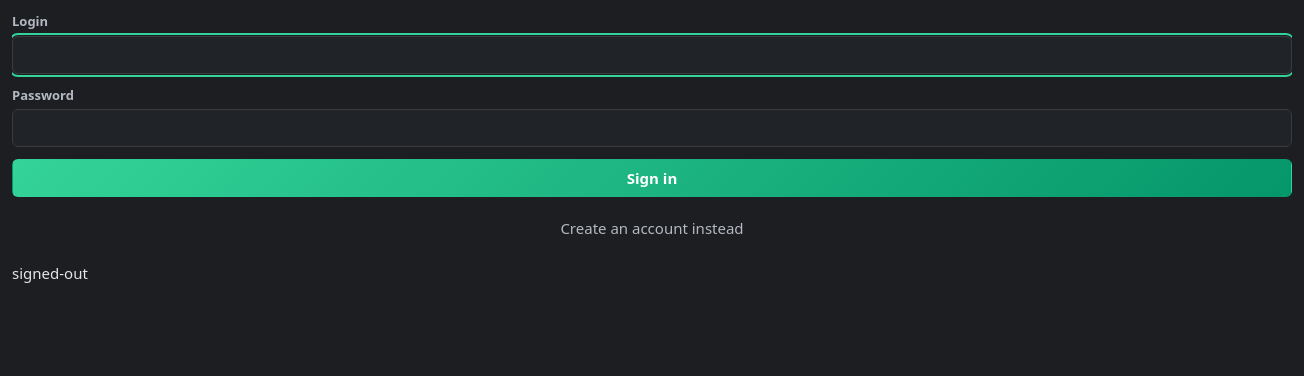
PasswordAuthForm › switches to register mode and reports an already-taken login without signing in
Click the button "Create an account instead". click: (652, 228)
box: [12, 209, 1292, 247]
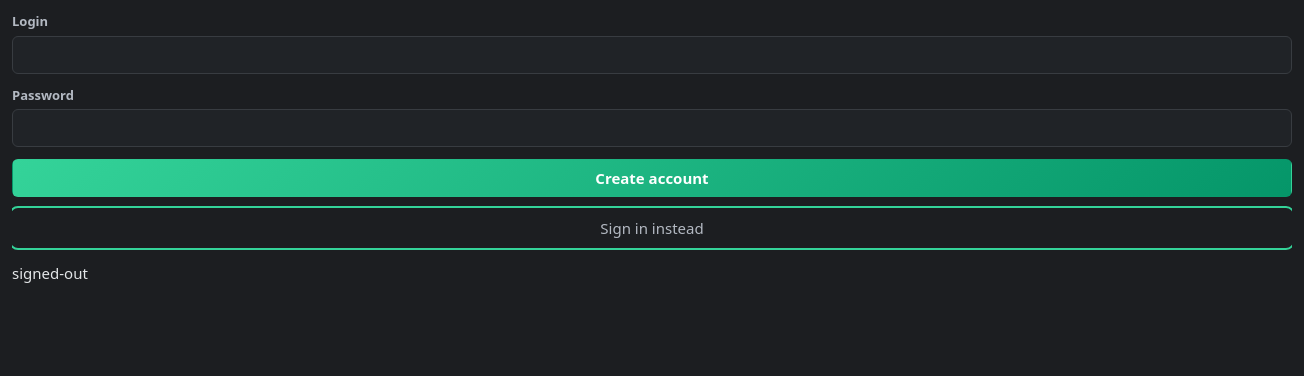
Type "alice" into the field labelled "Login". click: (652, 54)
box: [12, 36, 1292, 74]
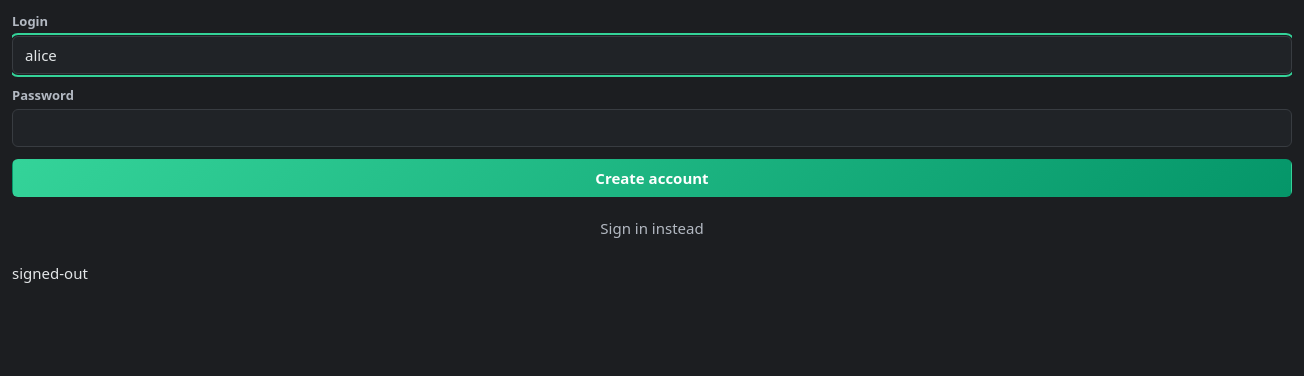
Type "some-password" into the password field labelled "Password". click: (652, 128)
box: [12, 109, 1292, 147]
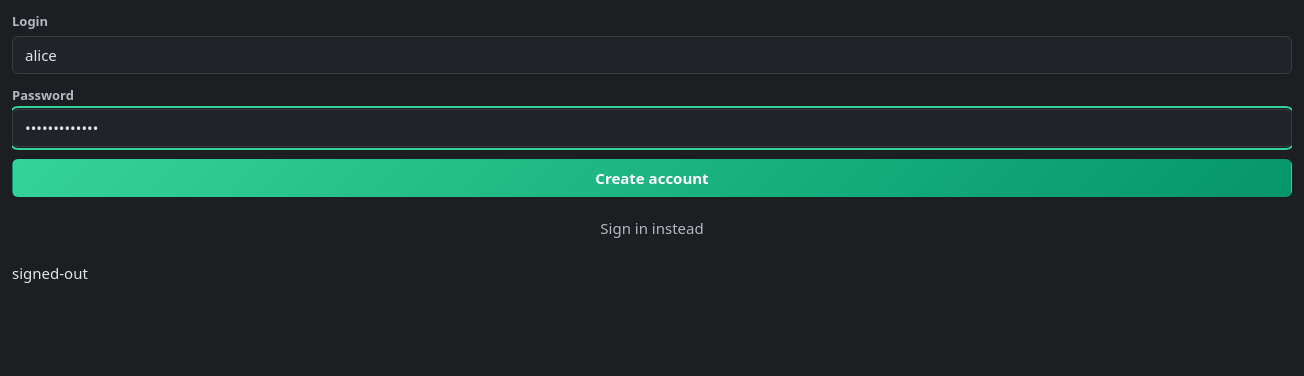
Click the button "Create account". click: (652, 178)
box: [12, 159, 1292, 197]
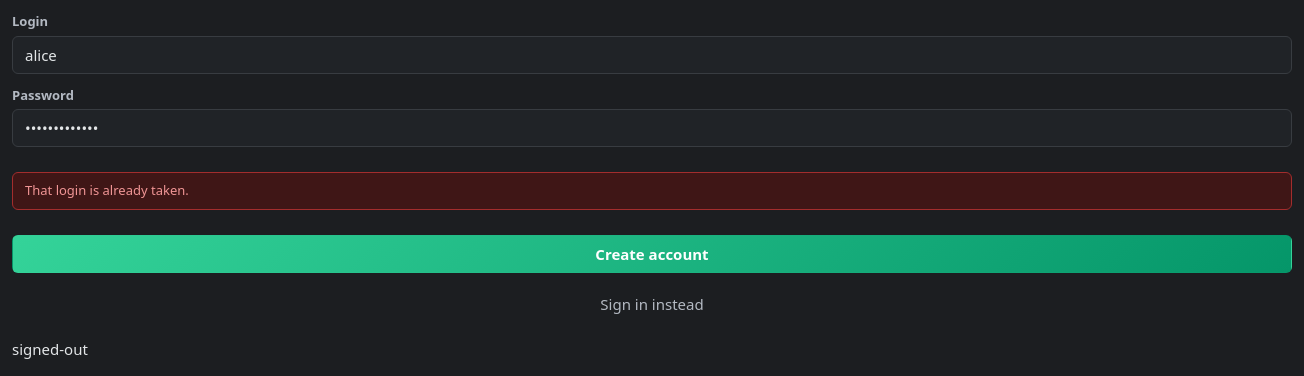
Expected: the text with test id "probe" reads "signed-out", [12, 338, 88, 358]
Expected: the message shows "already taken", [25, 181, 189, 199]
